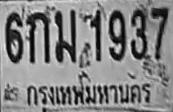1: (90, 10, 102, 62)
3: (130, 8, 148, 60)
6: (4, 11, 23, 63)
7: (150, 7, 168, 60)
9: (108, 9, 126, 61)
A01: (26, 11, 50, 63)
A33: (54, 9, 76, 62)
BKK: (22, 77, 153, 112)
